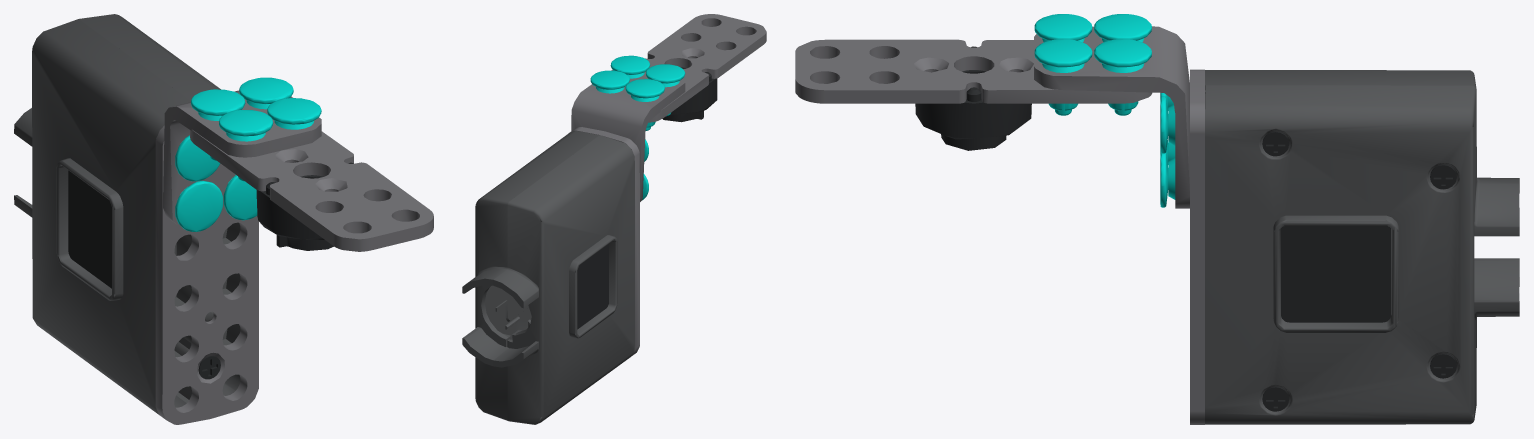
Rendered from pan.dae.
3 views of the same model, side by side, from view 1: azimuth 30°, elevation 25°; view 2: azimuth 150°, elevation 25°; view 3: azimuth 270°, elevation 25° (orthographic). The views are drawn at different scales.
Parts seen in each view (by area): view 1: 0000050488_ASM_1_ASM, 0000063776_ASM, 0000060935_ASM_1_ASM, 0000050824_ASM_1_ASM.001, 0000050824_ASM_1_ASM.006, 0000050824_ASM_1_ASM.007, 0000050824_ASM_1_ASM.005, 0000050824_ASM_1_ASM, 0000050824_ASM_1_ASM.004, 0000050824_ASM_1_ASM.002, KB-ST2X6; view 2: 0000050488_ASM_1_ASM, 0000063776_ASM, 0000060935_ASM_1_ASM, 0000050824_ASM_1_ASM.005, 0000050824_ASM_1_ASM.004, 0000050824_ASM_1_ASM.006, 0000050824_ASM_1_ASM.007; view 3: 0000050488_ASM_1_ASM, 0000063776_ASM, 0000060935_ASM_1_ASM, 0000050824_ASM_1_ASM.004, 0000050824_ASM_1_ASM.007, 0000050824_ASM_1_ASM.006, 0000050824_ASM_1_ASM.005, 0000050824_ASM_1_ASM.003, 0000050824_ASM_1_ASM.002.
Part boxes in pixels (x1,y1,x2,y2): 0000050488_ASM_1_ASM: (14, 14, 258, 424); 0000063776_ASM: (190, 129, 433, 251); 0000060935_ASM_1_ASM: (163, 90, 321, 225); 0000050824_ASM_1_ASM.001: (175, 180, 222, 231); 0000050824_ASM_1_ASM.006: (219, 110, 273, 181); 0000050824_ASM_1_ASM.007: (267, 98, 321, 129); 0000050824_ASM_1_ASM.005: (191, 89, 245, 160); 0000050824_ASM_1_ASM: (175, 135, 220, 181); 0000050824_ASM_1_ASM.004: (239, 77, 293, 109); 0000050824_ASM_1_ASM.002: (223, 175, 257, 220); KB-ST2X6: (198, 355, 220, 379); 0000050488_ASM_1_ASM: (462, 127, 639, 424); 0000063776_ASM: (645, 14, 766, 122); 0000060935_ASM_1_ASM: (571, 67, 685, 201); 0000050824_ASM_1_ASM.005: (625, 79, 664, 130); 0000050824_ASM_1_ASM.004: (590, 70, 629, 93); 0000050824_ASM_1_ASM.006: (646, 64, 685, 116); 0000050824_ASM_1_ASM.007: (610, 55, 650, 78); 0000050488_ASM_1_ASM: (1190, 69, 1519, 424); 0000063776_ASM: (795, 39, 1152, 150); 0000060935_ASM_1_ASM: (1034, 26, 1189, 208); 0000050824_ASM_1_ASM.004: (1094, 39, 1151, 115); 0000050824_ASM_1_ASM.007: (1034, 39, 1092, 115); 0000050824_ASM_1_ASM.006: (1034, 14, 1092, 42); 0000050824_ASM_1_ASM.005: (1094, 14, 1151, 42); 0000050824_ASM_1_ASM.003: (1160, 96, 1175, 153); 0000050824_ASM_1_ASM.002: (1160, 151, 1175, 207).
Size of the model in its own units: 0.019 by 0.0973 by 0.055.
